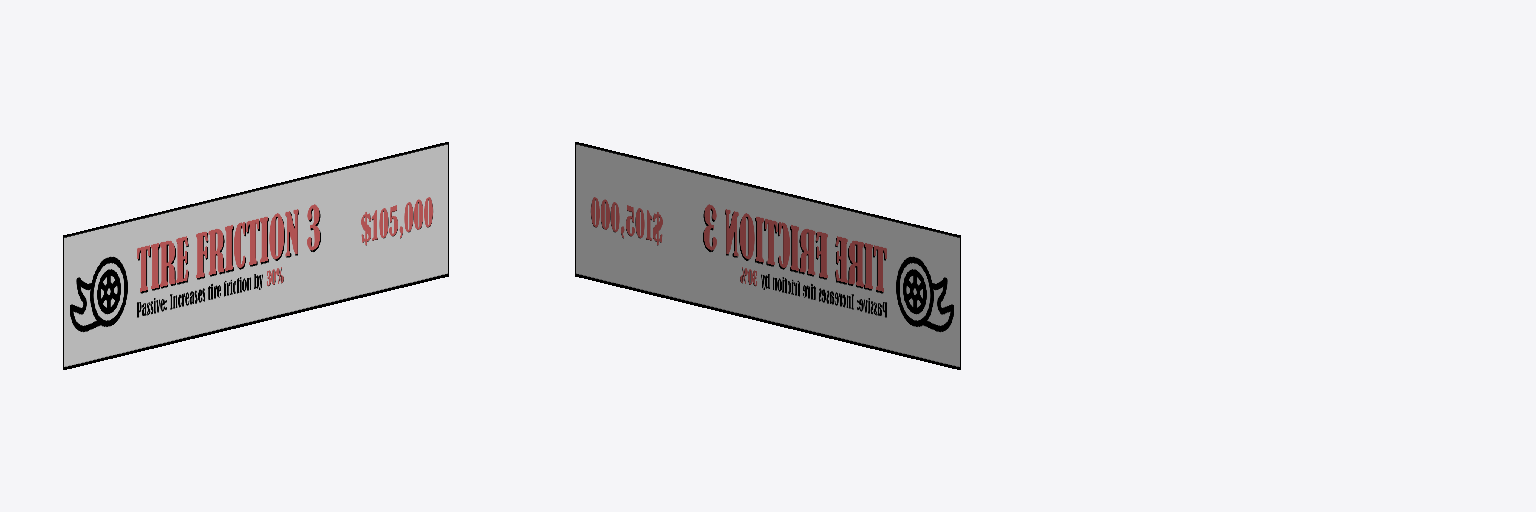
3 views of the same model, side by side, from view 1: azimuth 30°, elevation 25°; view 2: azimuth 150°, elevation 25°; view 3: azimuth 270°, elevation 25° (orthographic).
Visible parts, largest first — view 1: Plane.003; view 2: Plane.003; view 3: none.
Part boxes in pixels (x1,y1,x2,y2): Plane.003: (63,142,448,369); Plane.003: (575,142,960,369).
Bounding box in the file's own units: 0.9 × 0.3 × 0.
1 materials, 1 textured.